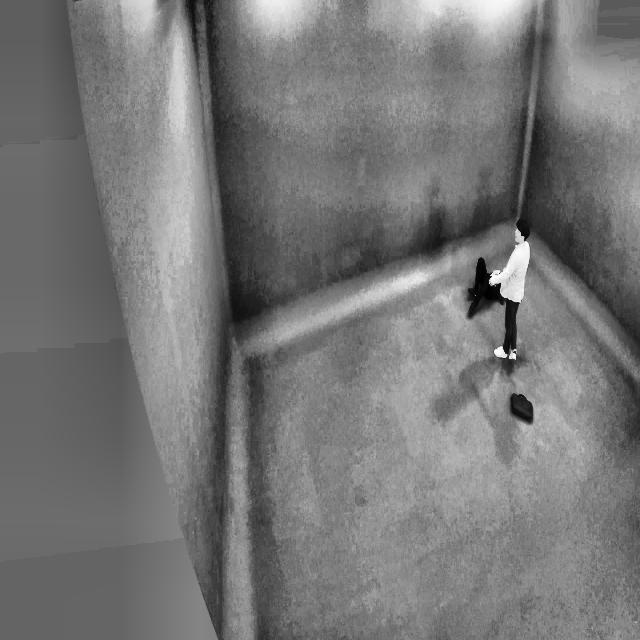assult: (464, 202, 537, 369)
